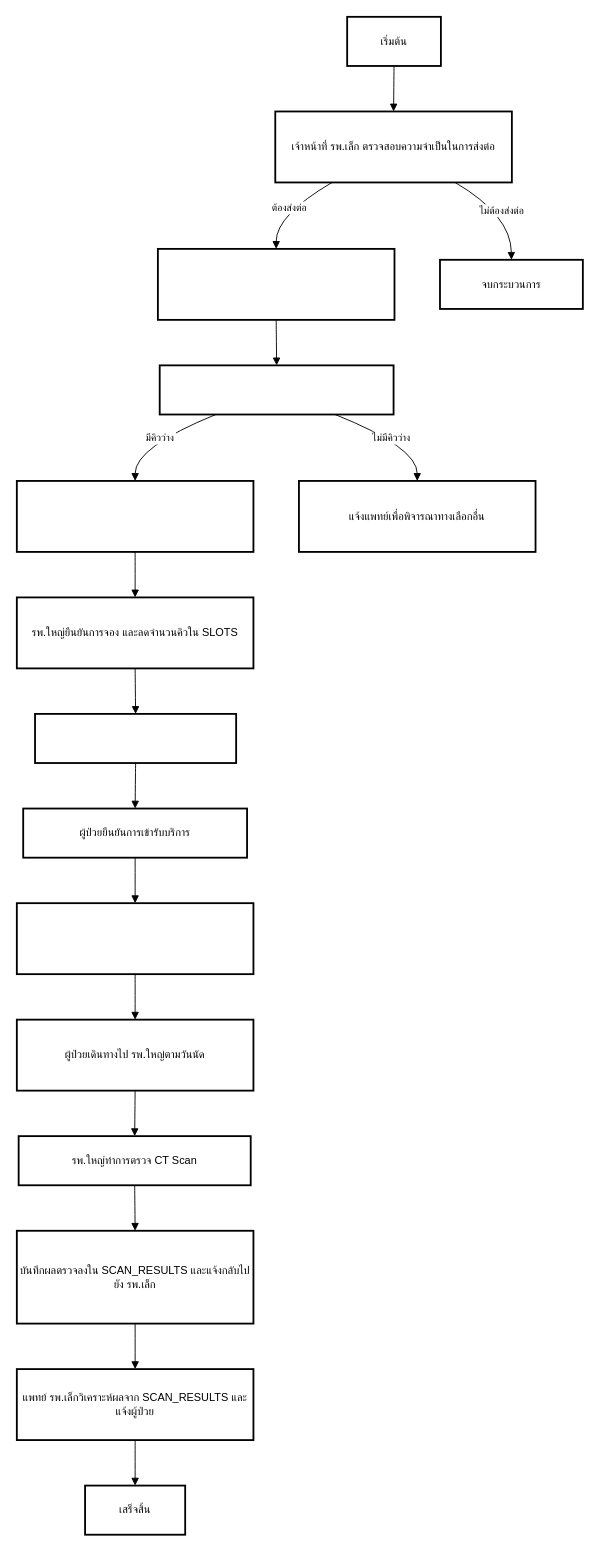
Some shapes in this 599 by 1551 pixel diagram are drawn without their labels. The centre of each missing label's shape, as x and y in pixels:
"ค้นหา รพ.ใหญ่ที่มี SLOTS ว่าง" belongs at (x=276, y=389).
"บันทึกข้อมูลผู้ป่วยและเหตุผลลงใน TRANSFERS" belongs at (x=276, y=284).
"รพ.เล็กออกเอกสารส่งตัวและแจ้งวันนัดหมาย" belongs at (x=134, y=938).
"ระบบส่งคำขอจองไปยัง รพ.ใหญ่โดยอัตโนมัติ" belongs at (x=134, y=516).
"แจ้ง รพ.เล็กให้แจ้งผู้ป่วย" belongs at (x=135, y=738).
